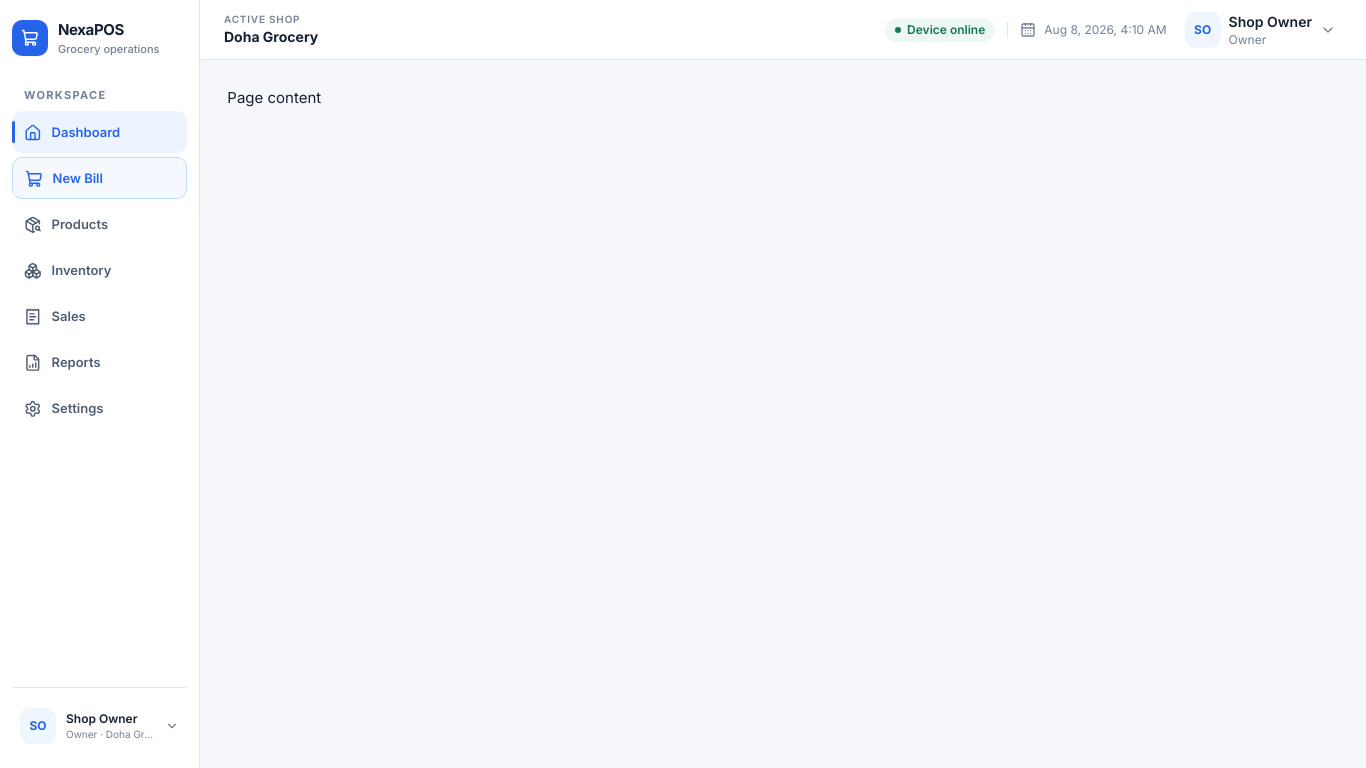
Test: premium application shell › renders owner navigation, status context, and mobile billing access
Expected: the link "Reports" is shown, x1=24 y1=354 x2=101 y2=371
Expected: the text "Device online" is shown, x1=885 y1=18 x2=995 y2=42
Click the button with aria-label "Open account menu" at coordinates (100, 726), box x1=12 y1=700 x2=187 y2=752
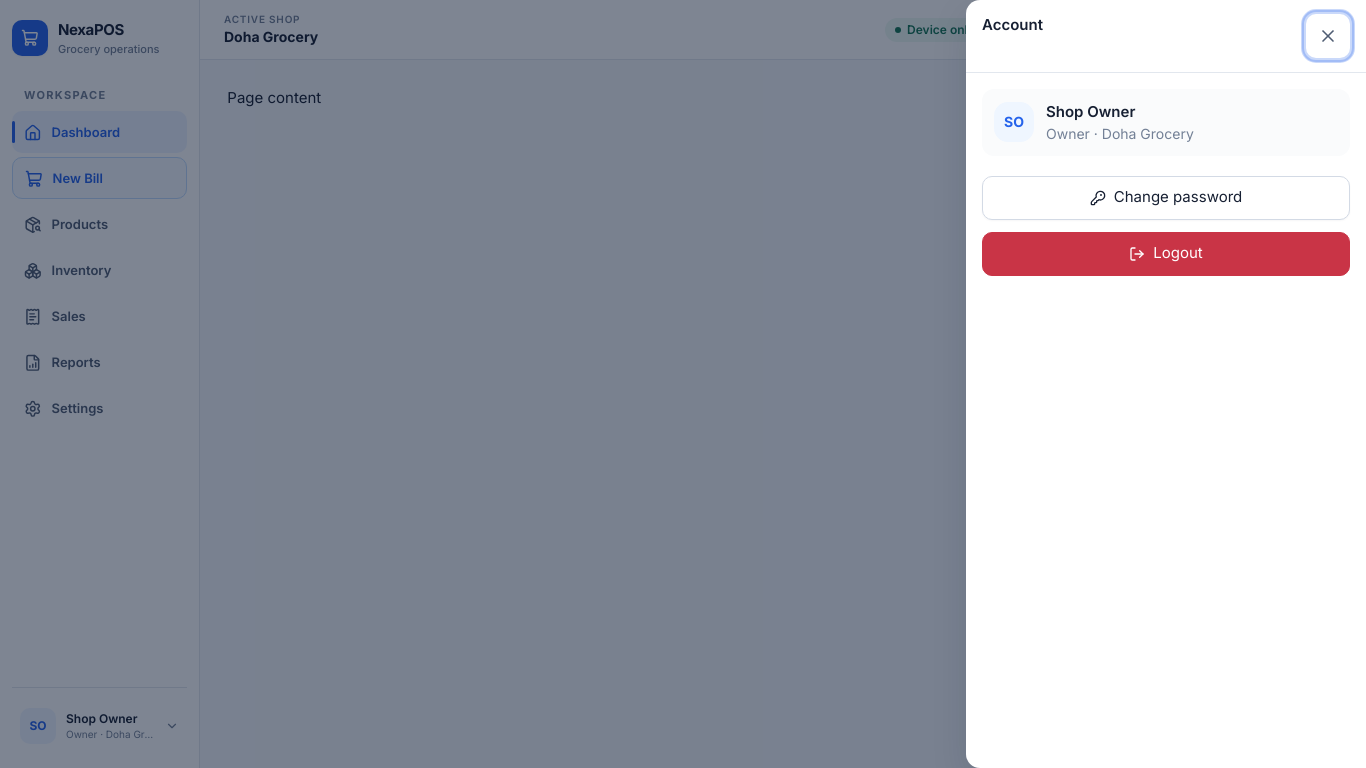
Expected: the dialog "Account" is shown, x1=966 y1=0 x2=1365 y2=767
